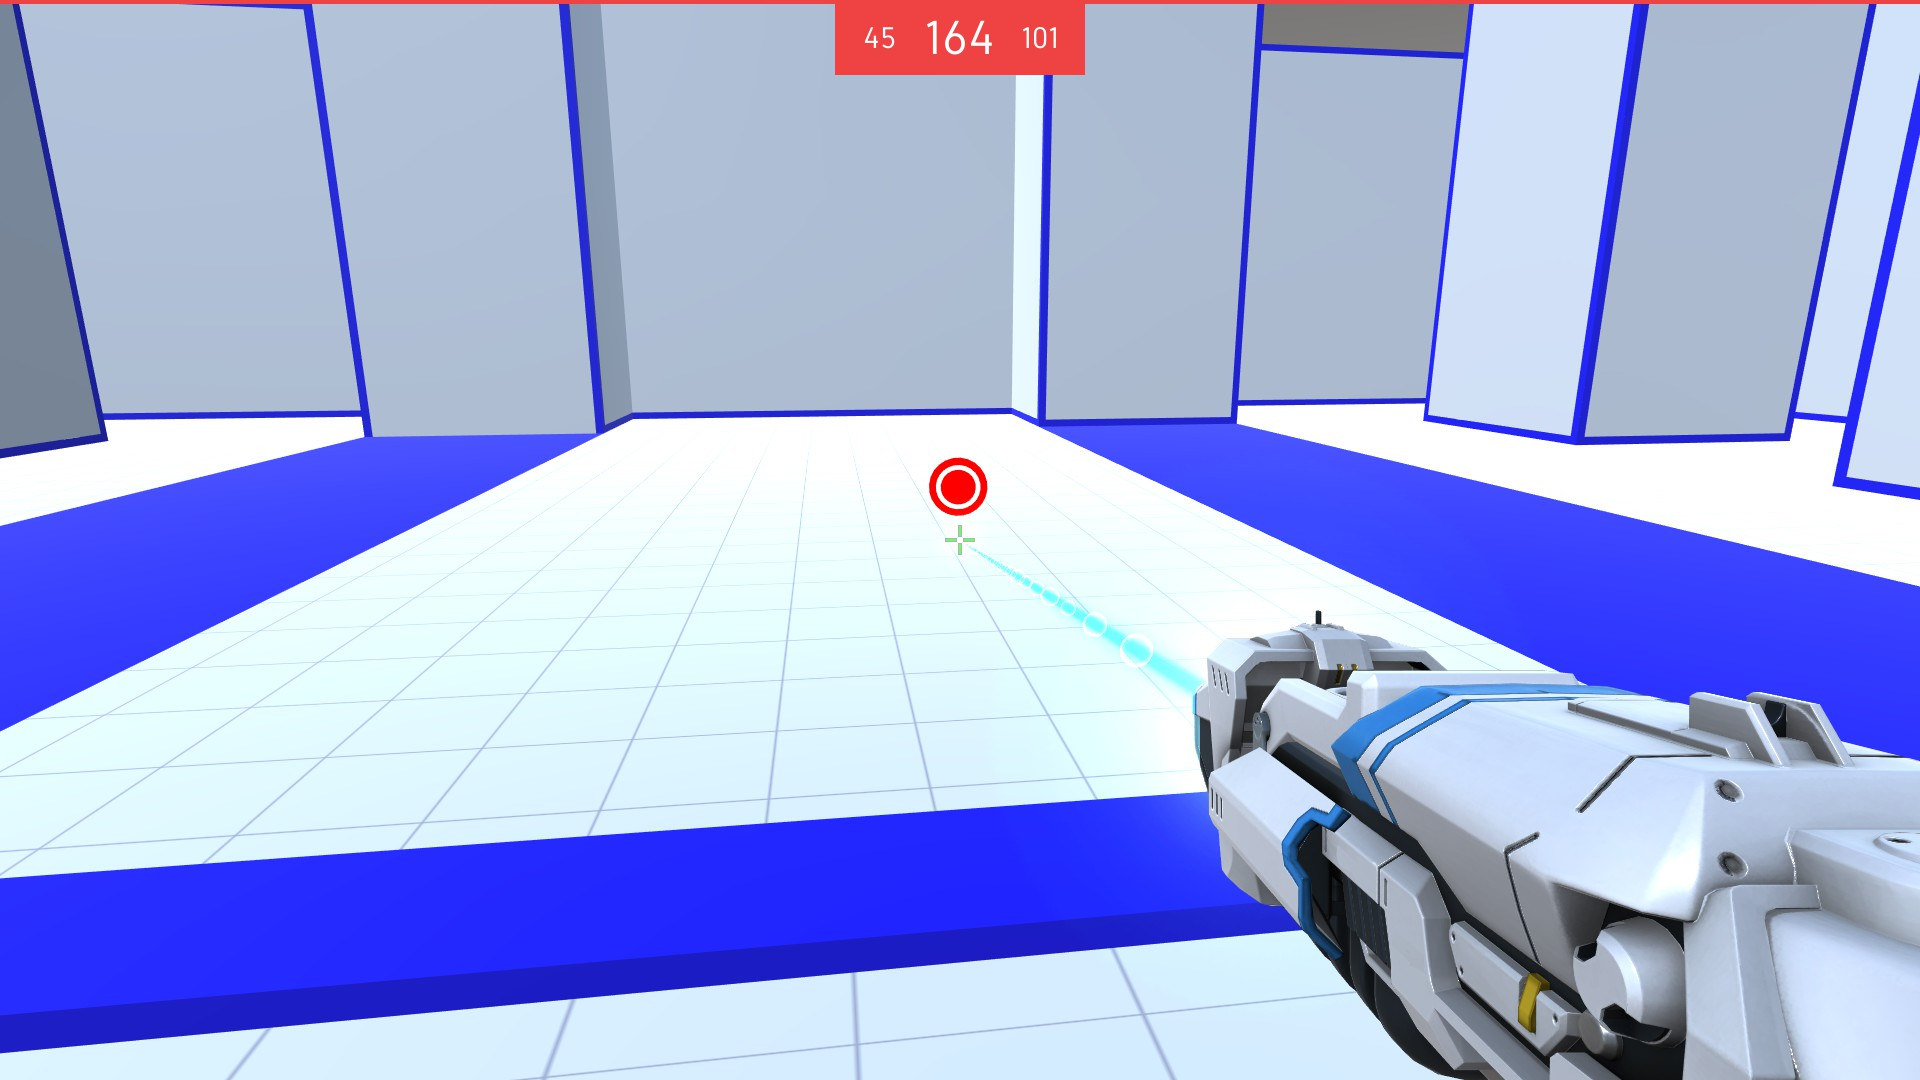target: (928, 458, 993, 516)
